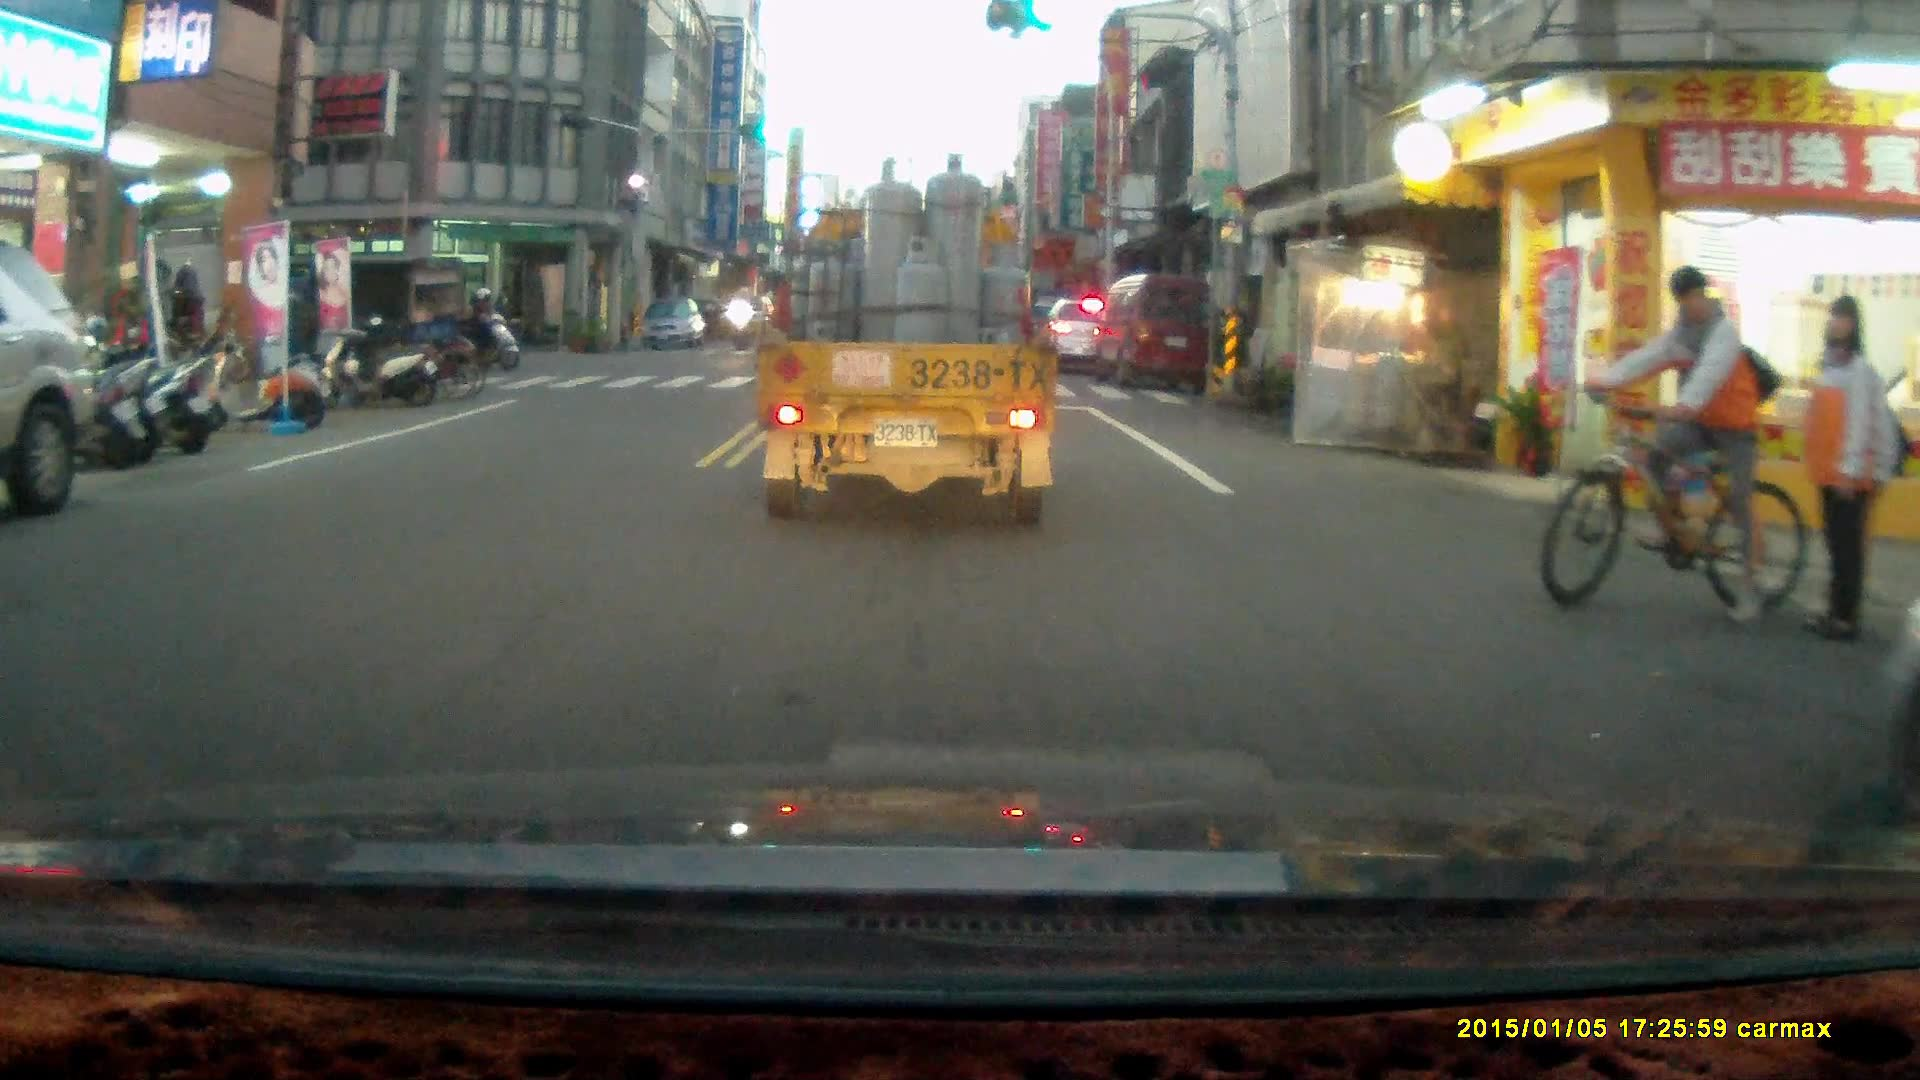pedestrian: (1796, 294, 1880, 646), (168, 264, 204, 375)
rider: (1543, 265, 1808, 631), (450, 283, 518, 373), (729, 283, 766, 351)
vehicle: (753, 161, 1046, 523), (265, 247, 473, 374), (1, 249, 100, 518), (1092, 273, 1218, 393), (1043, 296, 1117, 376), (640, 299, 708, 351)
